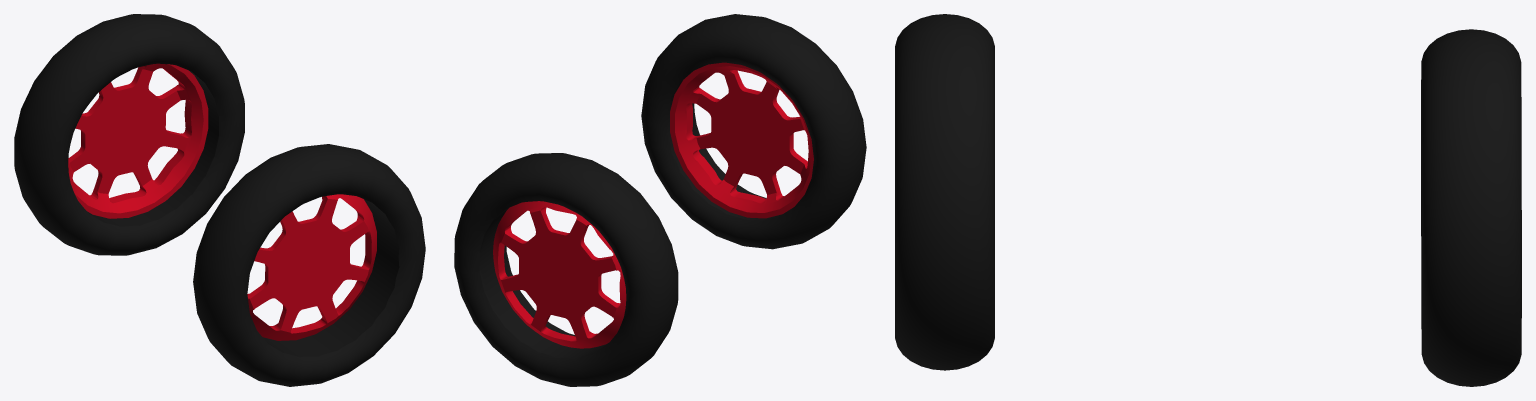
Rendered from bothWheels.DAE.
3 views of the same model, side by side, from view 1: azimuth 30°, elevation 25°; view 2: azimuth 150°, elevation 25°; view 3: azimuth 270°, elevation 25° (orthographic). The views are drawn at different scales.
Visible parts, largest first — view 1: Torus10, Torus01, Cylinder16, Cylinder98; view 2: Torus01, Torus10, Cylinder98, Cylinder16; view 3: Torus01, Torus10.
Boxes of the visible parts, box(x1,y1,x2,y2) form: Torus10: box(193, 144, 425, 386); Torus01: box(14, 14, 244, 255); Cylinder16: box(68, 63, 208, 218); Cylinder98: box(247, 194, 376, 340); Torus01: box(454, 153, 678, 386); Torus10: box(641, 14, 866, 249); Cylinder98: box(670, 62, 813, 218); Cylinder16: box(493, 201, 626, 348); Torus01: box(1421, 29, 1521, 386); Torus10: box(895, 14, 994, 370).
Bounding box in the file's own units: 24.72 × 42.1 × 24.77.
